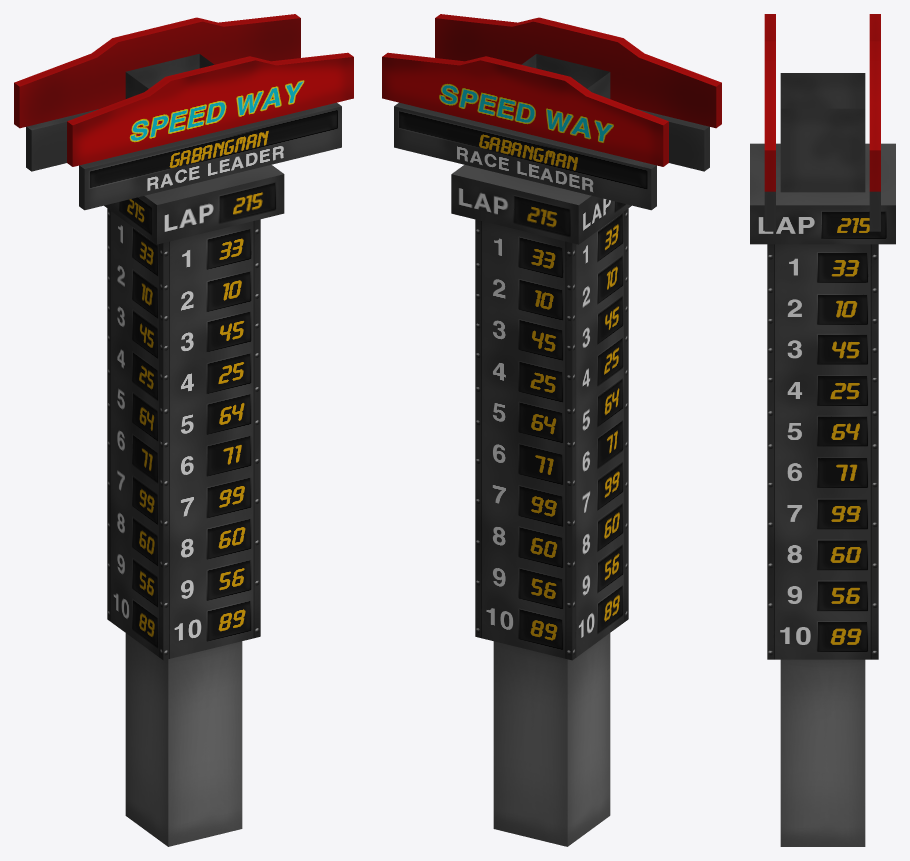
The model's file is ADTop_1.fbx.
3 renders of one model, left to right at view 1: azimuth 30°, elevation 25°; view 2: azimuth 150°, elevation 25°; view 3: azimuth 270°, elevation 25°, orthographic.
Visible parts, largest first — view 1: ADTop_1; view 2: ADTop_1; view 3: ADTop_1.
Part boxes in pixels (x1=…): ADTop_1: x1=14, y1=14, x2=353, y2=846; ADTop_1: x1=382, y1=14, x2=721, y2=846; ADTop_1: x1=750, y1=14, x2=895, y2=846.
Bounding box in the file's own units: 562 × 1477 × 255.
